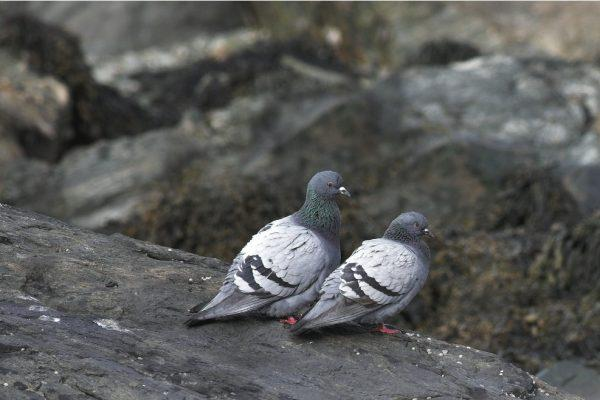Flying Rat: (206, 172, 350, 315), (310, 217, 431, 340)
